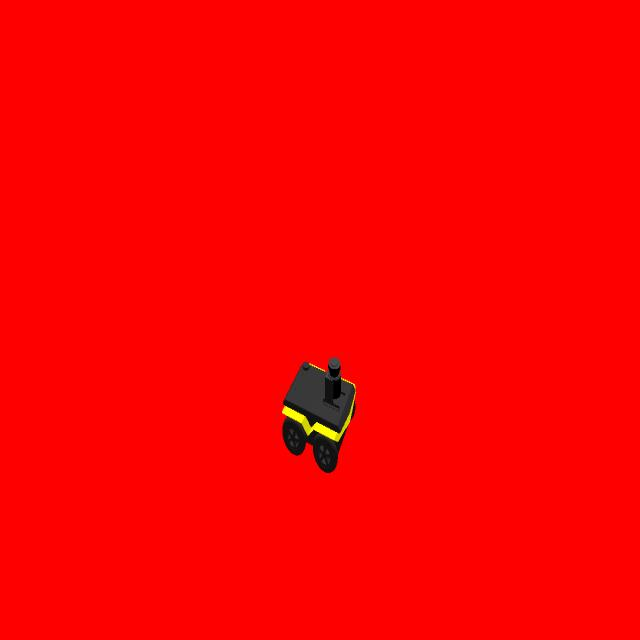jackal: (278, 354, 360, 479)
